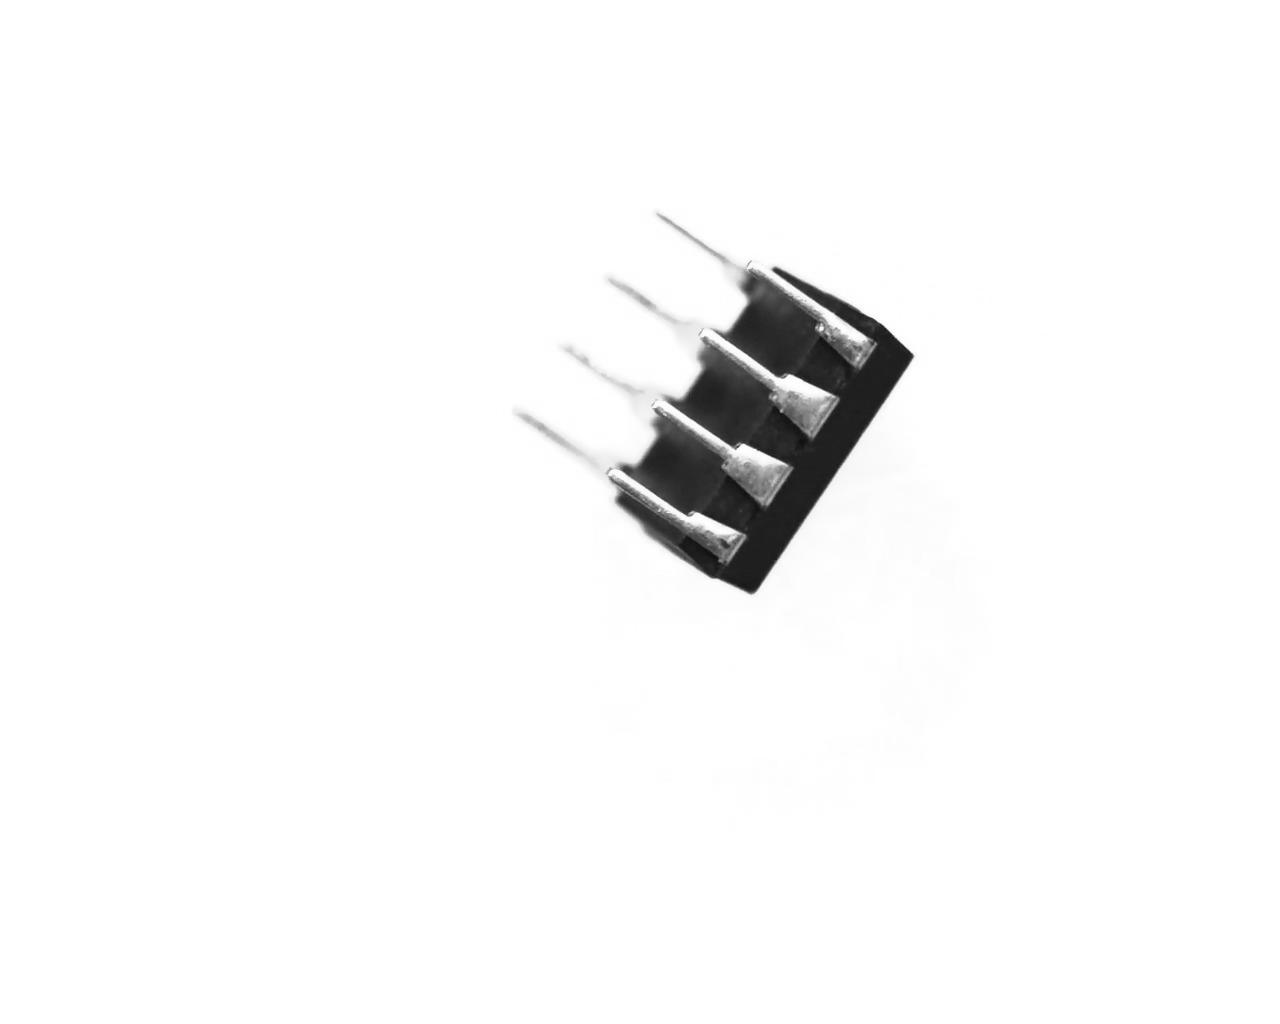Leg: (652, 392, 792, 505), (700, 327, 836, 440), (749, 253, 876, 373), (605, 463, 730, 583), (646, 195, 763, 296), (506, 408, 619, 505), (606, 264, 716, 363), (560, 330, 670, 423)
